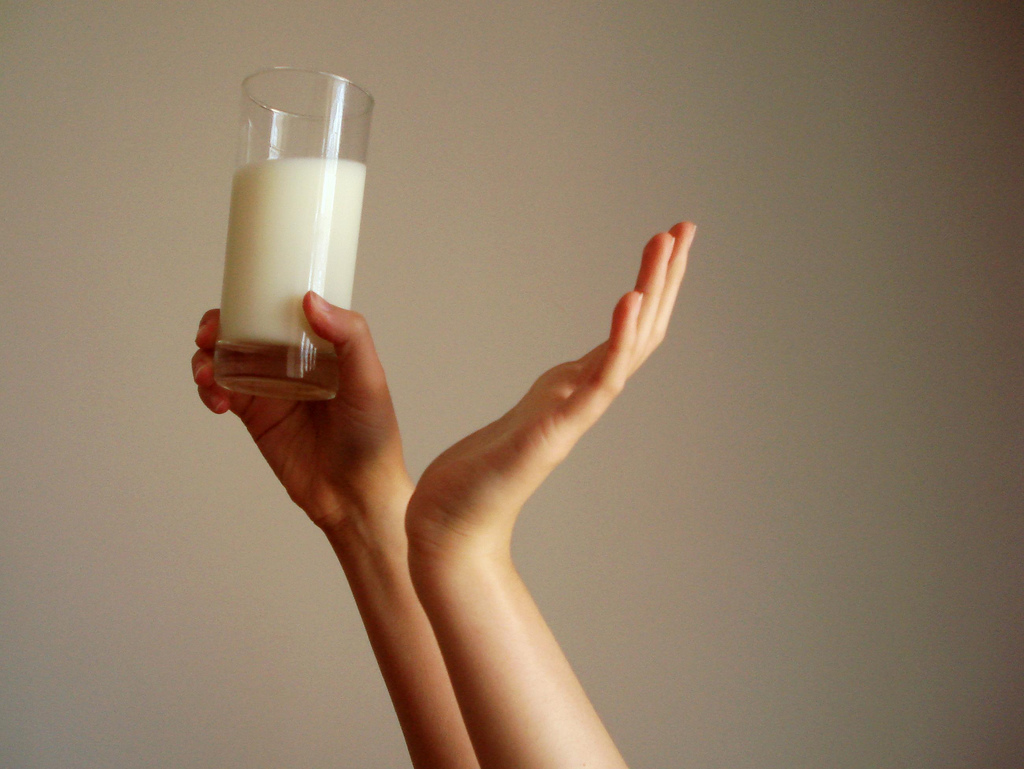glass of milk: (240, 58, 373, 404)
